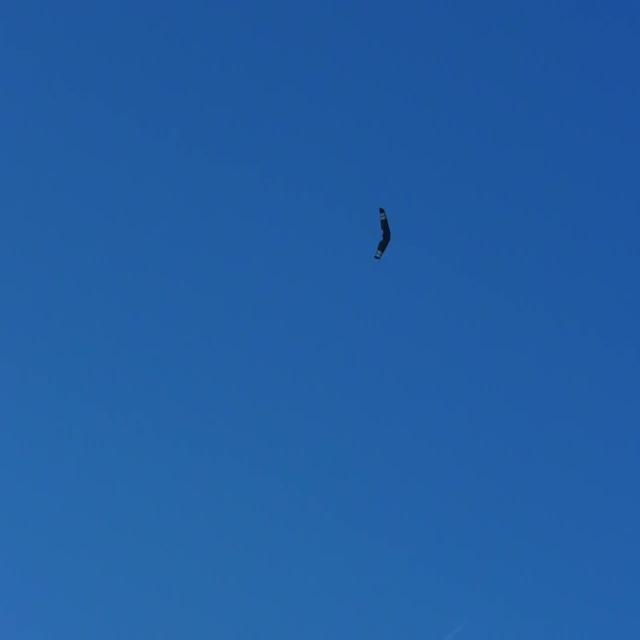iha: (368, 232, 394, 236)
